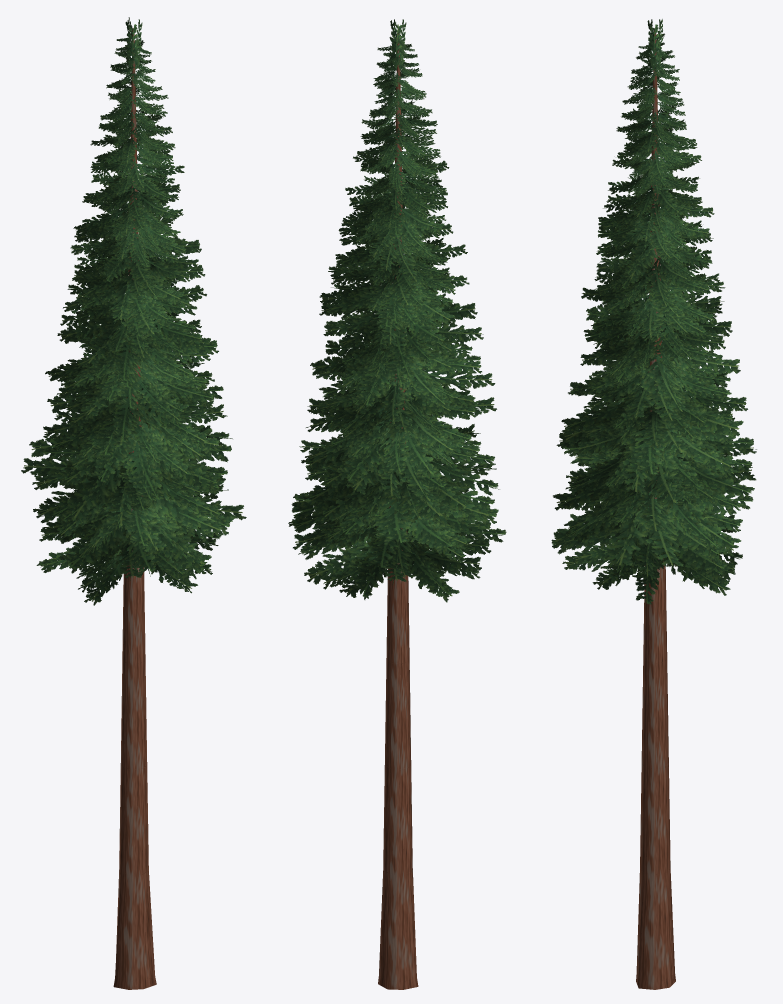
File: Sugi_A.fbx
3 renders of one model, left to right at view 1: azimuth 30°, elevation 25°; view 2: azimuth 150°, elevation 25°; view 3: azimuth 270°, elevation 25°, orthographic.
Parts seen in each view (by area): view 1: Sugi_A_LOD0; view 2: Sugi_A_LOD0; view 3: Sugi_A_LOD0.
Part boxes in pixels (bbox=[...]): Sugi_A_LOD0: bbox=[21, 17, 246, 989]; Sugi_A_LOD0: bbox=[288, 19, 506, 989]; Sugi_A_LOD0: bbox=[551, 19, 756, 989].
Size of what is drawn, in the model's own units: 5.36 by 24.09 by 5.15.
2 materials, 2 textured.
